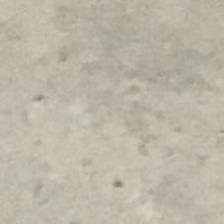Non_Crack: (13, 9, 206, 224)
